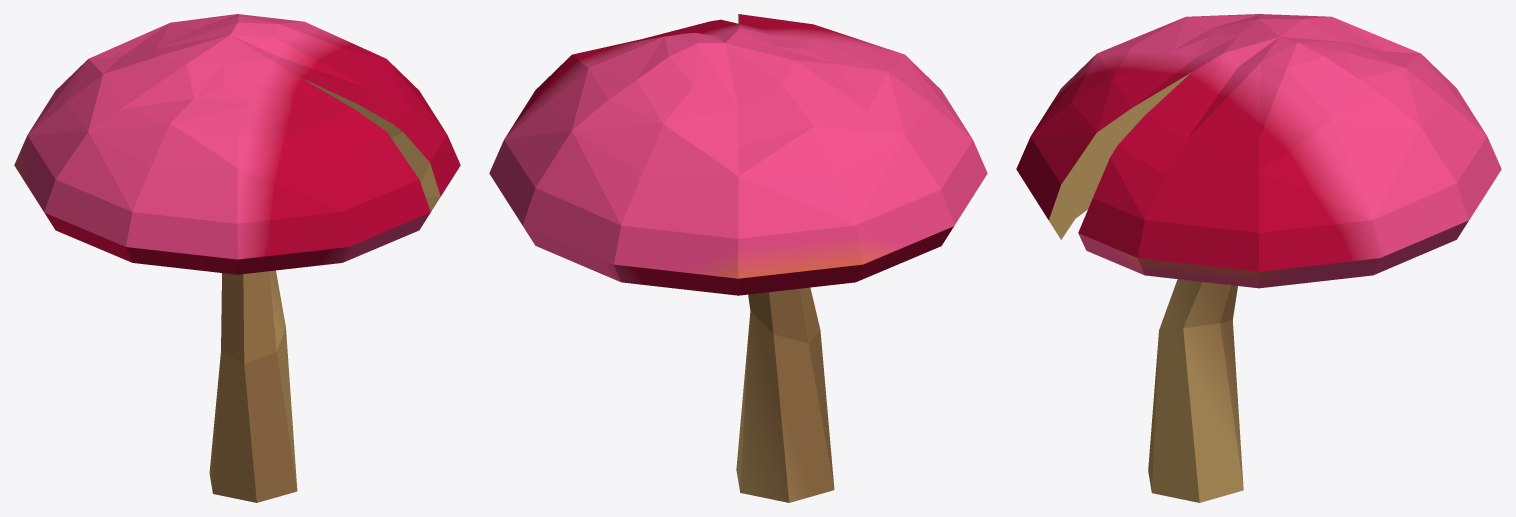
File: Mushroom_4.fbx
3 renders of one model, left to right at view 1: azimuth 30°, elevation 25°; view 2: azimuth 150°, elevation 25°; view 3: azimuth 270°, elevation 25°, orthographic. The views are drawn at different scales.
Visible parts, largest first — view 1: Mushroom_4; view 2: Mushroom_4; view 3: Mushroom_4.
Part boxes in pixels (x1,y1,x2,y2): Mushroom_4: (14,14,460,502); Mushroom_4: (489,14,987,502); Mushroom_4: (1016,14,1501,502).
Size of the model in its own units: 73.6 by 76.02 by 73.6.
